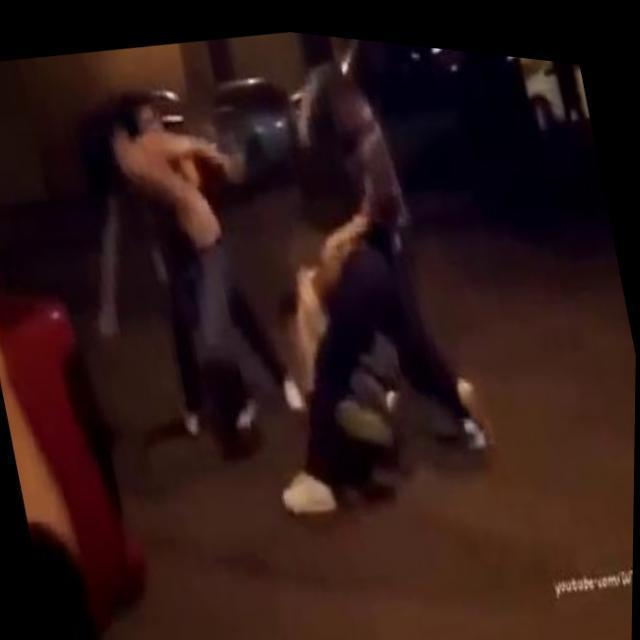fight: (201, 32, 498, 548)
